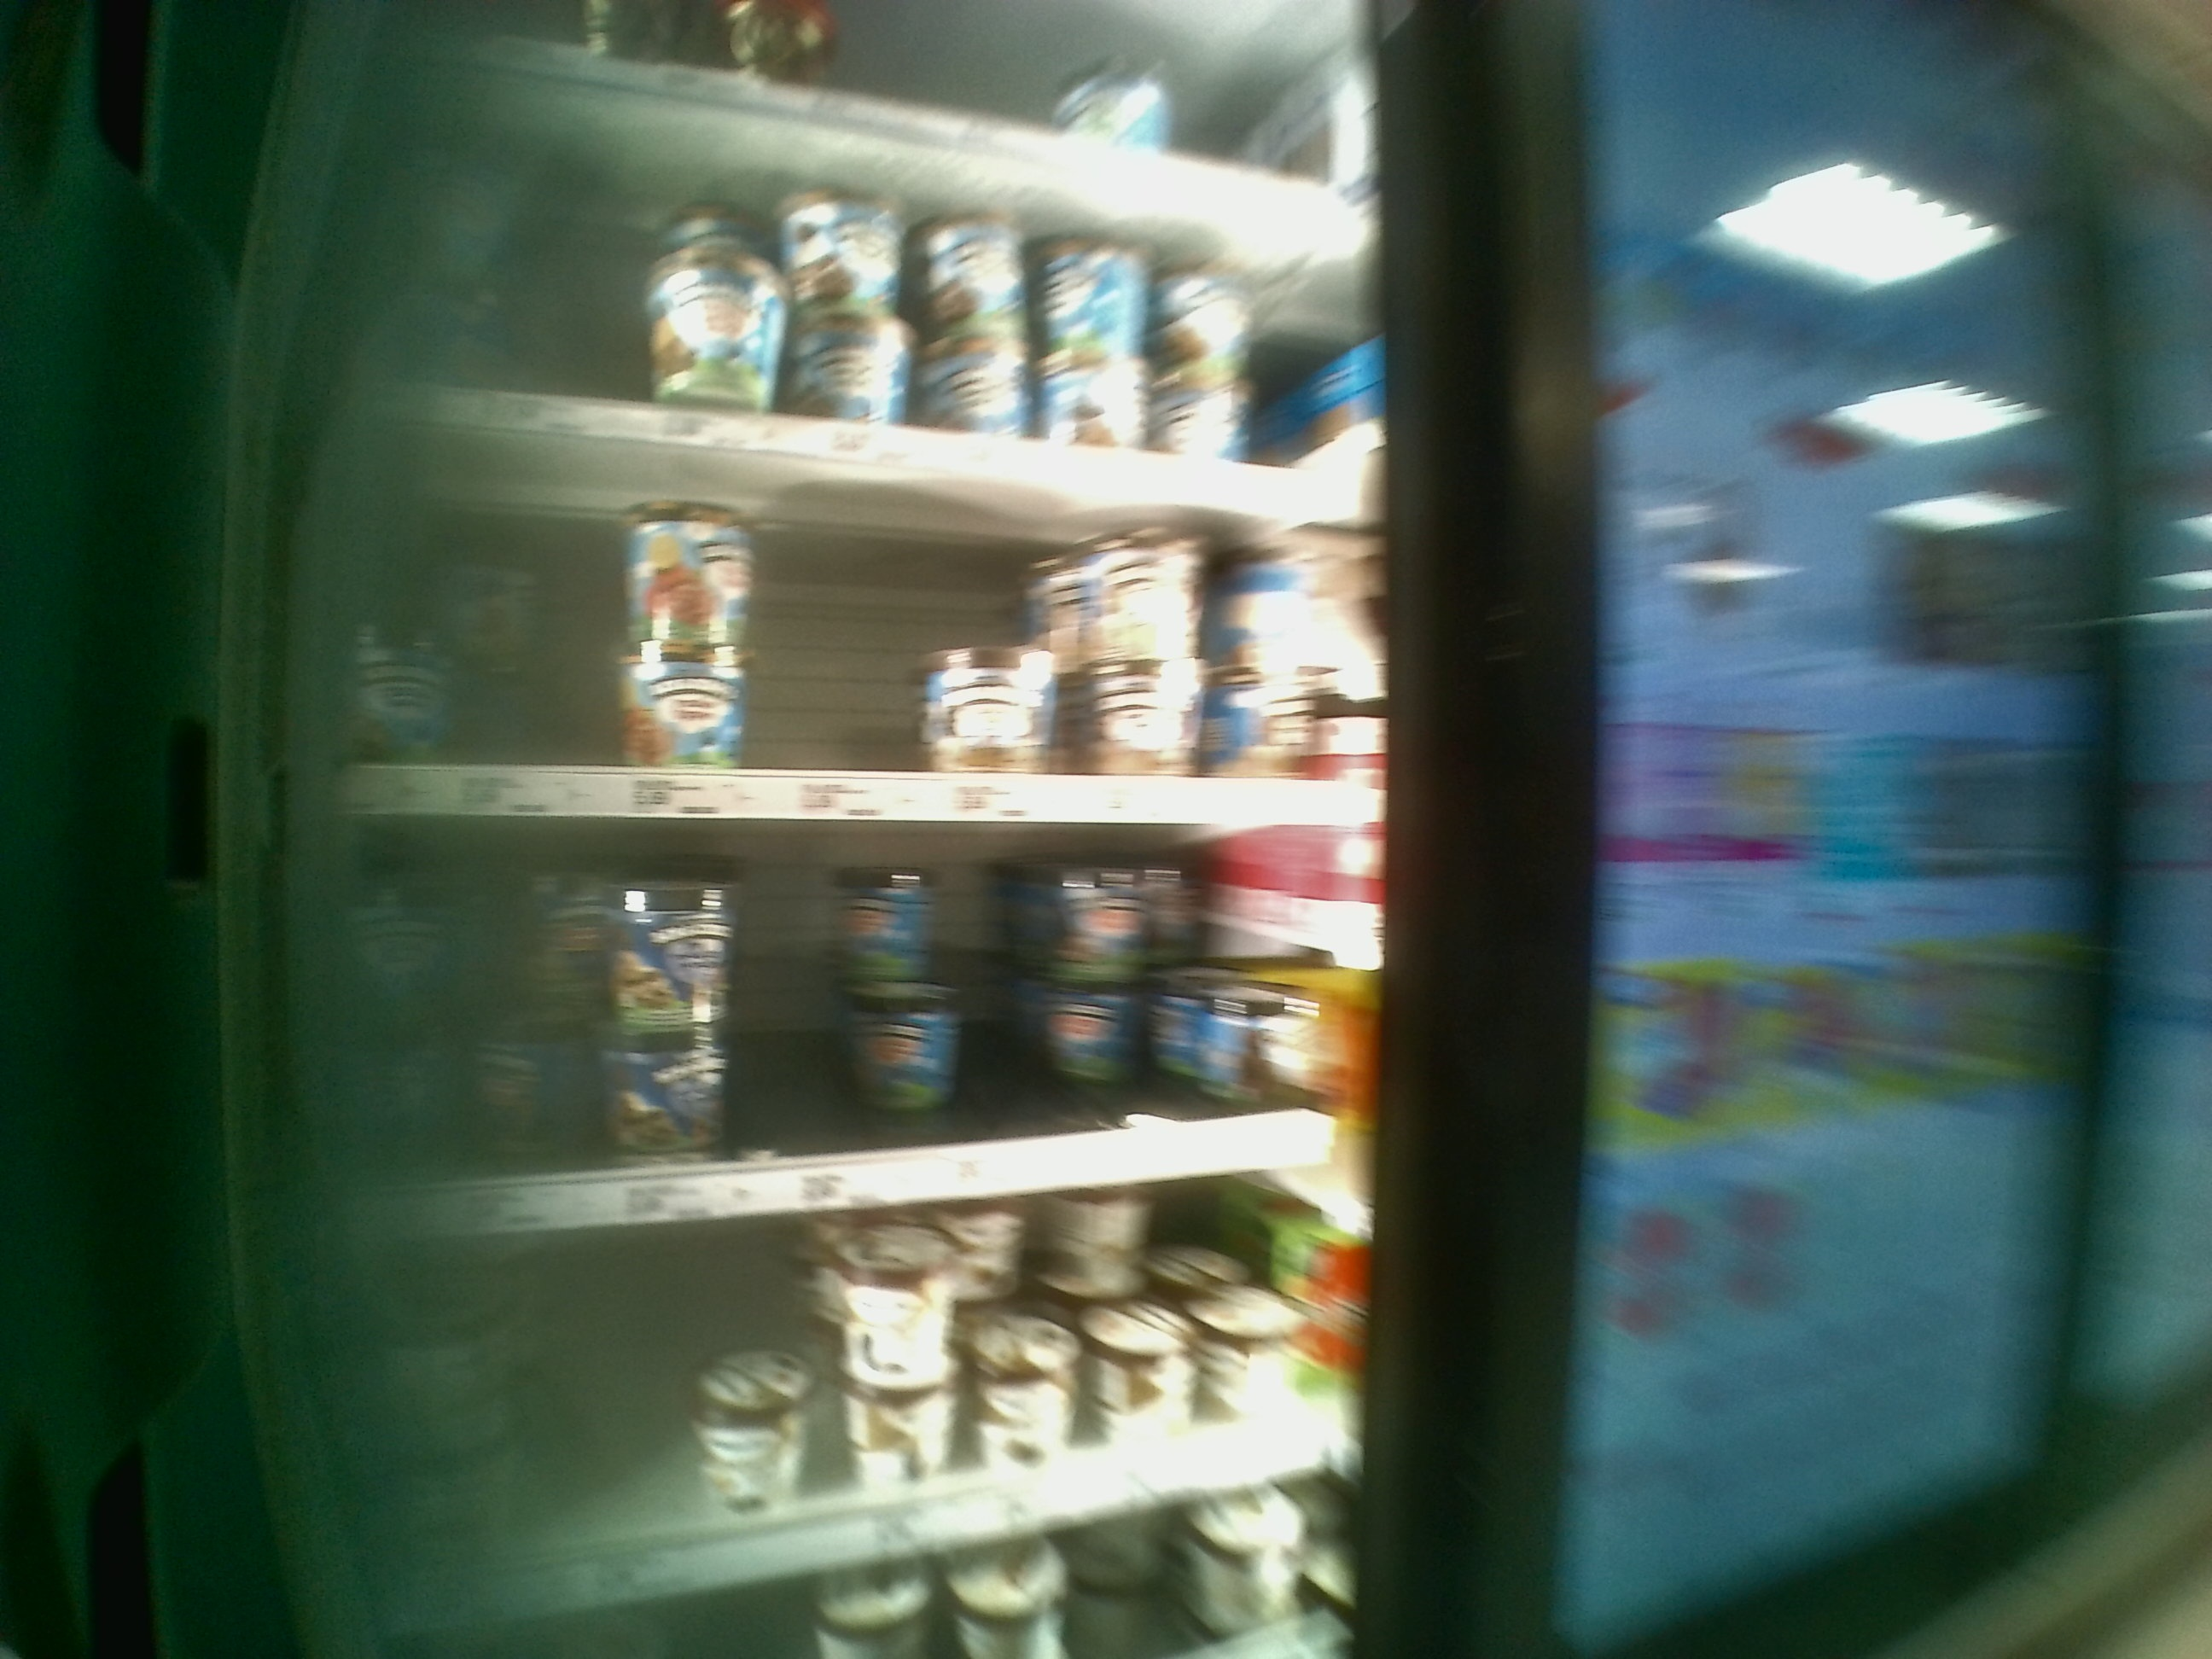shelf: (326, 809, 1378, 1239)
